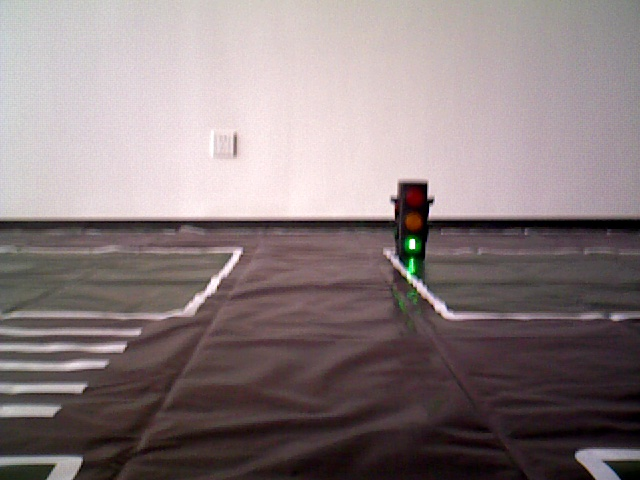green: (396, 182, 427, 256)
